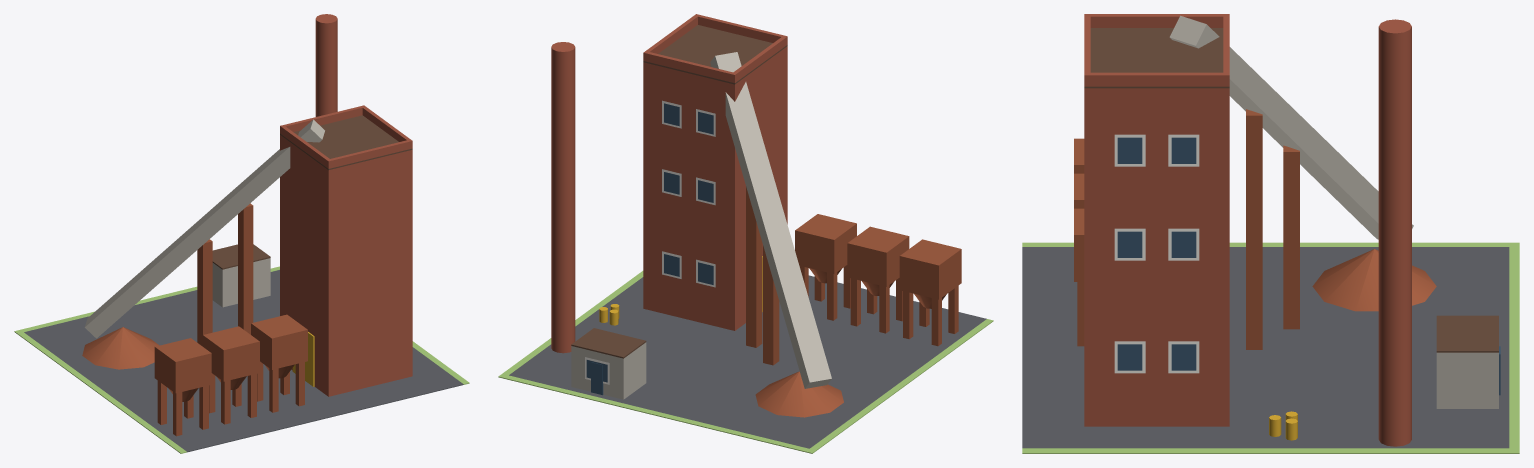
The picture shows the model from 3 angles, left to right: view 1: azimuth 30°, elevation 25°; view 2: azimuth 150°, elevation 25°; view 3: azimuth 270°, elevation 25°; orthographic projection. The views are drawn at different scales.
Parts seen in each view (by area): view 1: crusher_house, asphalt, hopper (×3), conveyor, leg (×2), roof (×2), parapet (×4), smoke_stack, heap, lawn (×2), control, garage_door; view 2: asphalt, crusher_house, conveyor, hopper (×3), smoke_stack, leg (×8), roof (×2), lawn (×3), parapet (×4), heap, control; view 3: asphalt, crusher_house, smoke_stack, conveyor, roof (×2), leg (×3), lawn (×3), parapet (×4), window_glass (×6), heap, control, hopper.
Part boxes in pixels (bbox=[...]): crusher_house: bbox=[280, 135, 412, 396]; asphalt: bbox=[24, 270, 463, 452]; hopper (×3): bbox=[154, 314, 307, 393]; conveyor: bbox=[84, 119, 324, 338]; leg (×2): bbox=[197, 203, 253, 346]; roof (×2): bbox=[212, 115, 412, 269]; parapet (×4): bbox=[280, 105, 412, 168]; smoke_stack: bbox=[315, 14, 337, 116]; heap: bbox=[82, 327, 159, 369]; lawn (×2): bbox=[14, 266, 279, 453]; control: bbox=[212, 258, 270, 307]; garage_door: bbox=[292, 332, 314, 386]; asphalt: bbox=[509, 275, 986, 448]; crusher_house: bbox=[643, 46, 787, 330]; conveyor: bbox=[710, 52, 831, 388]; hopper (×3): bbox=[795, 214, 961, 299]; smoke_stack: bbox=[551, 42, 575, 353]; leg (×8): bbox=[746, 186, 958, 365]; roof (×2): bbox=[571, 25, 787, 358]; lawn (×3): bbox=[498, 271, 993, 453]; parapet (×4): bbox=[643, 14, 787, 82]; heap: bbox=[755, 371, 843, 417]; control: bbox=[571, 342, 646, 399]; asphalt: bbox=[1022, 247, 1509, 448]; crusher_house: bbox=[1084, 88, 1229, 426]; smoke_stack: bbox=[1378, 19, 1411, 446]; conveyor: bbox=[1169, 15, 1413, 239]; roof (×2): bbox=[1084, 28, 1498, 352]; leg (×3): bbox=[1077, 109, 1299, 349]; lawn (×3): bbox=[1022, 242, 1519, 453]; parapet (×4): bbox=[1084, 14, 1229, 86]; window_glass (×6): bbox=[1117, 137, 1196, 370]; heap: bbox=[1312, 249, 1436, 311]; control: bbox=[1436, 352, 1498, 408]; hopper: bbox=[1074, 208, 1084, 281].
Bounding box in the file's own units: 24 × 22.06 × 24.
